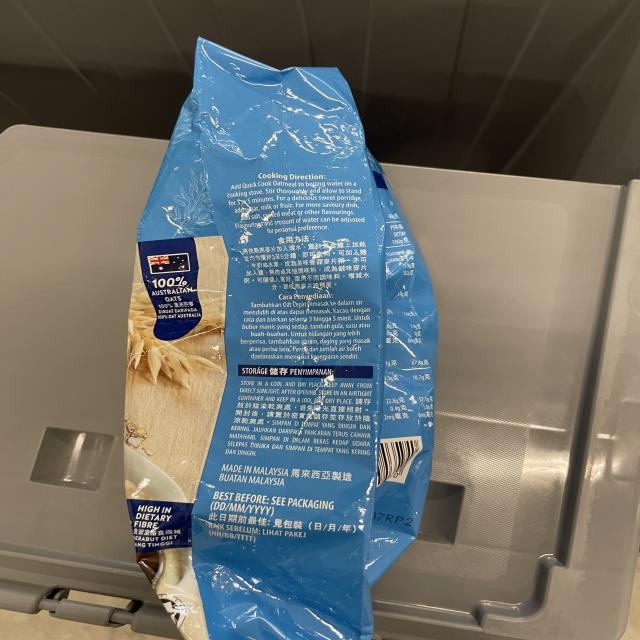object_name: (146, 57, 408, 640)
